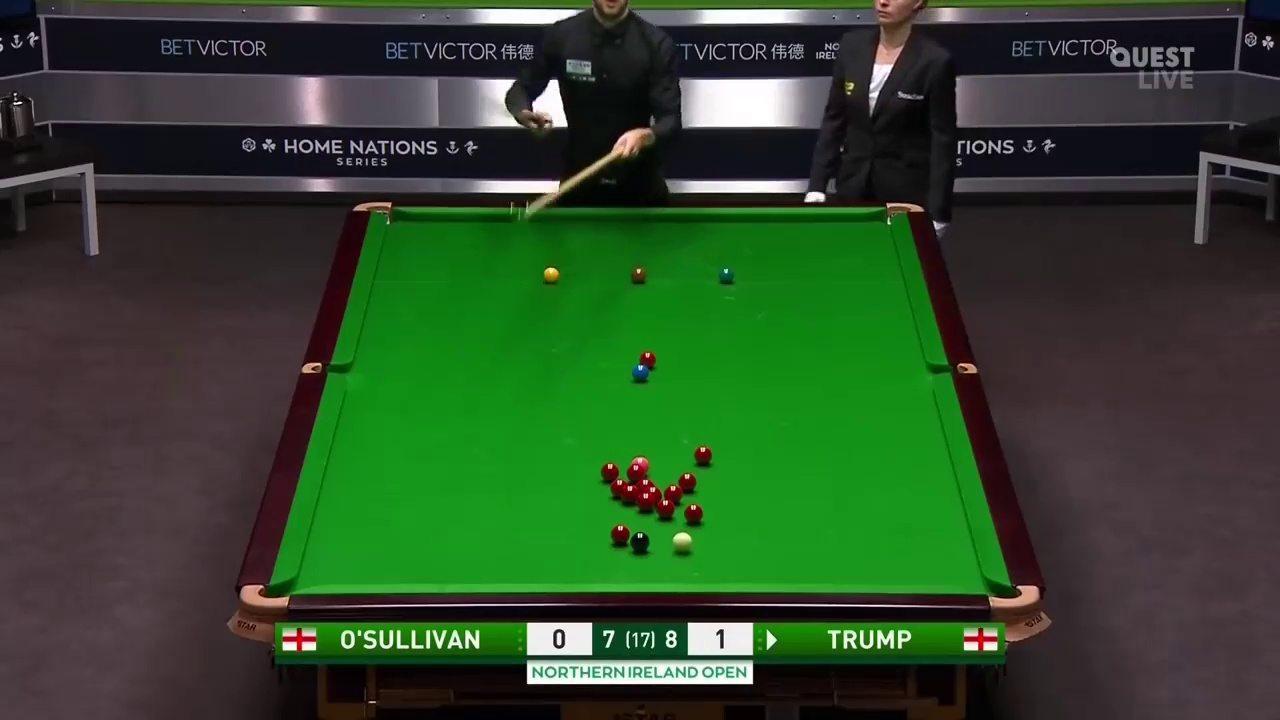ball: (671, 533, 692, 558), (682, 504, 706, 525), (632, 530, 651, 555), (654, 497, 673, 518), (677, 473, 698, 492), (620, 483, 638, 505), (609, 525, 629, 544), (541, 266, 561, 284), (629, 267, 647, 285), (693, 447, 711, 465), (630, 364, 646, 384), (720, 265, 735, 285), (602, 459, 615, 480)
